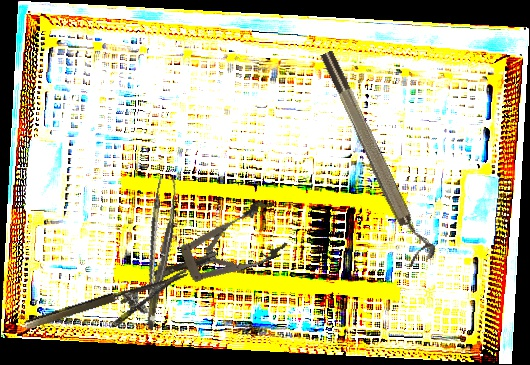Fixation Ring: (316, 44, 439, 268)
Needle Holder: (23, 269, 197, 352)
Speculum: (142, 196, 293, 303)
Tissue Forceps: (128, 176, 185, 330)
